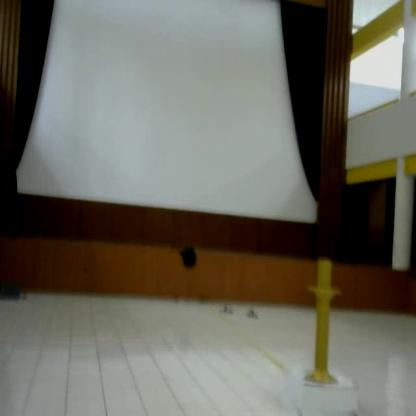pole: (300, 255, 346, 390)
